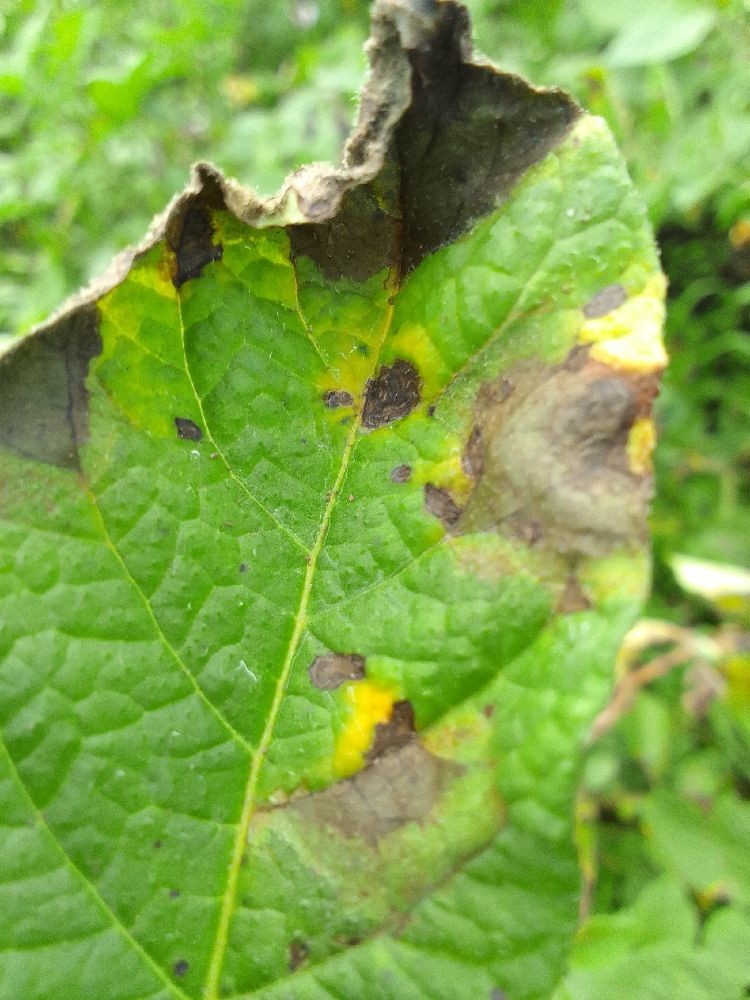late_blight: (226, 0, 619, 343), (407, 325, 681, 631), (293, 681, 466, 870), (0, 265, 132, 495)
